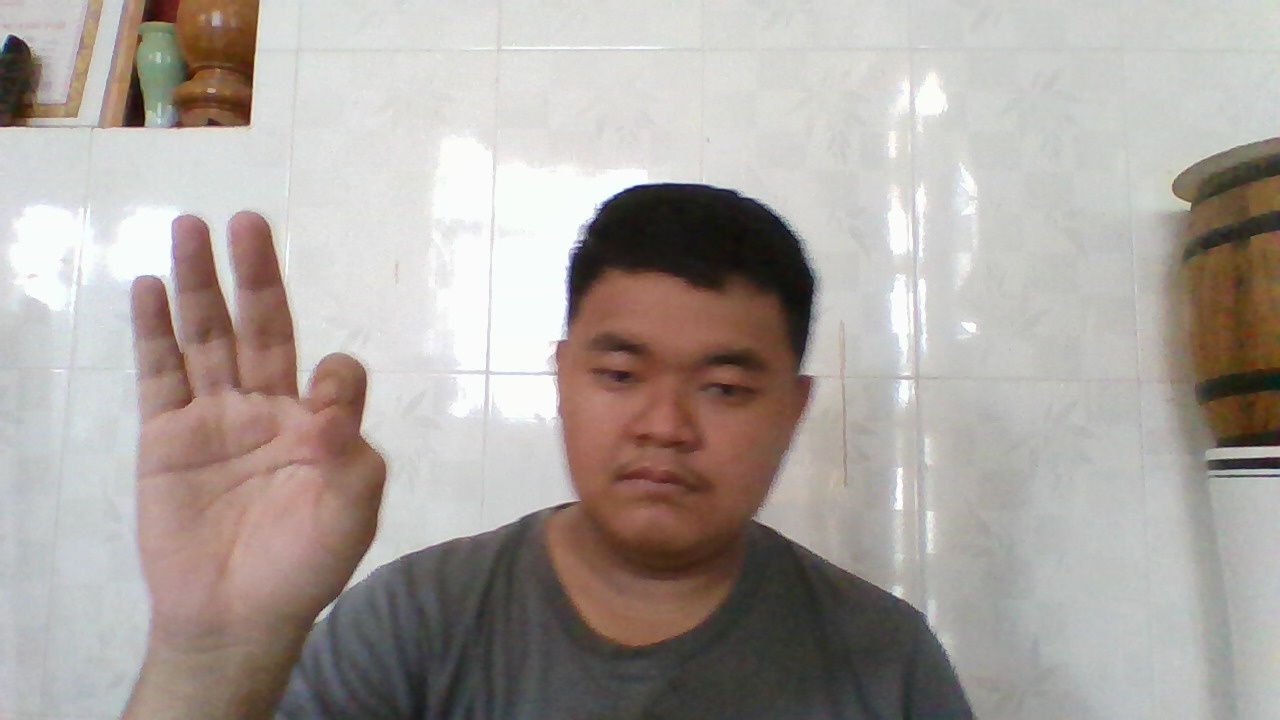T: (129, 215, 385, 652)
